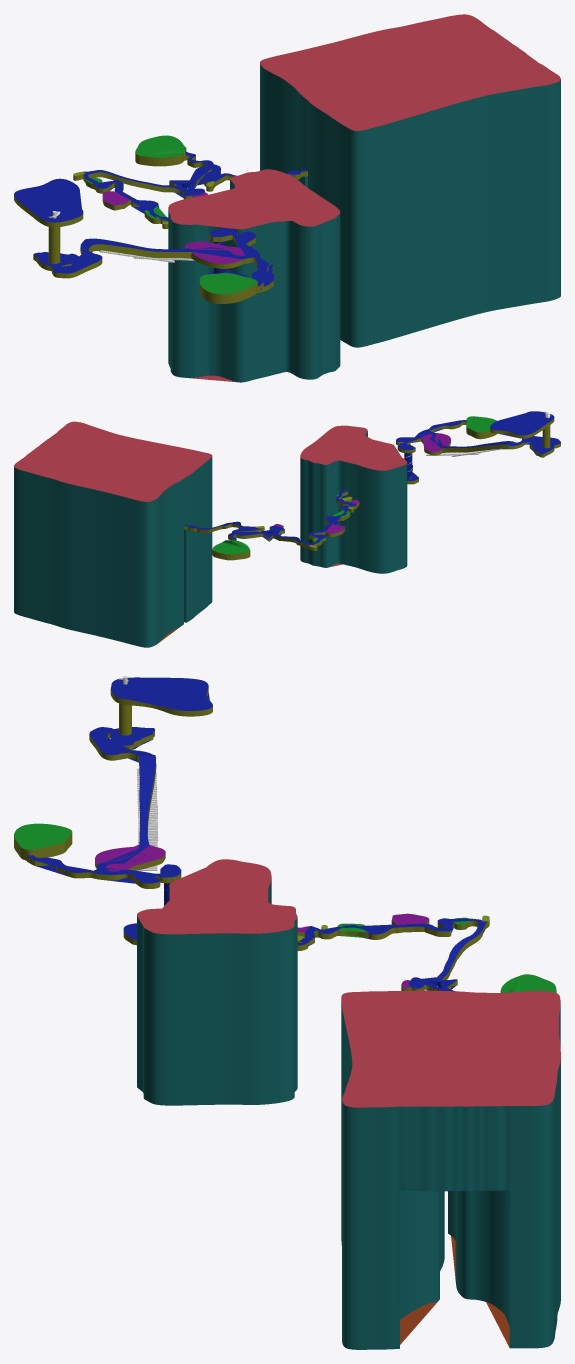
Rendered from World-Whitebox - Dungeon - Draft Final V3.fbx.
3 views of the same model, one above another, from view 1: azimuth 30°, elevation 25°; view 2: azimuth 150°, elevation 25°; view 3: azimuth 270°, elevation 25° (orthographic). The views are drawn at different scales.
Parts seen in each view (by area): view 1: Dungeon Floor Layout (Floor 1-4) 3D; view 2: Dungeon Floor Layout (Floor 1-4) 3D; view 3: Dungeon Floor Layout (Floor 1-4) 3D.
Boxes of the visible parts, x1,y1,x2,y2 form: Dungeon Floor Layout (Floor 1-4) 3D: [14, 14, 560, 382]; Dungeon Floor Layout (Floor 1-4) 3D: [14, 411, 560, 647]; Dungeon Floor Layout (Floor 1-4) 3D: [14, 677, 560, 1349].
Bounding box in the file's own units: 45940 × 21603 × 31406.
